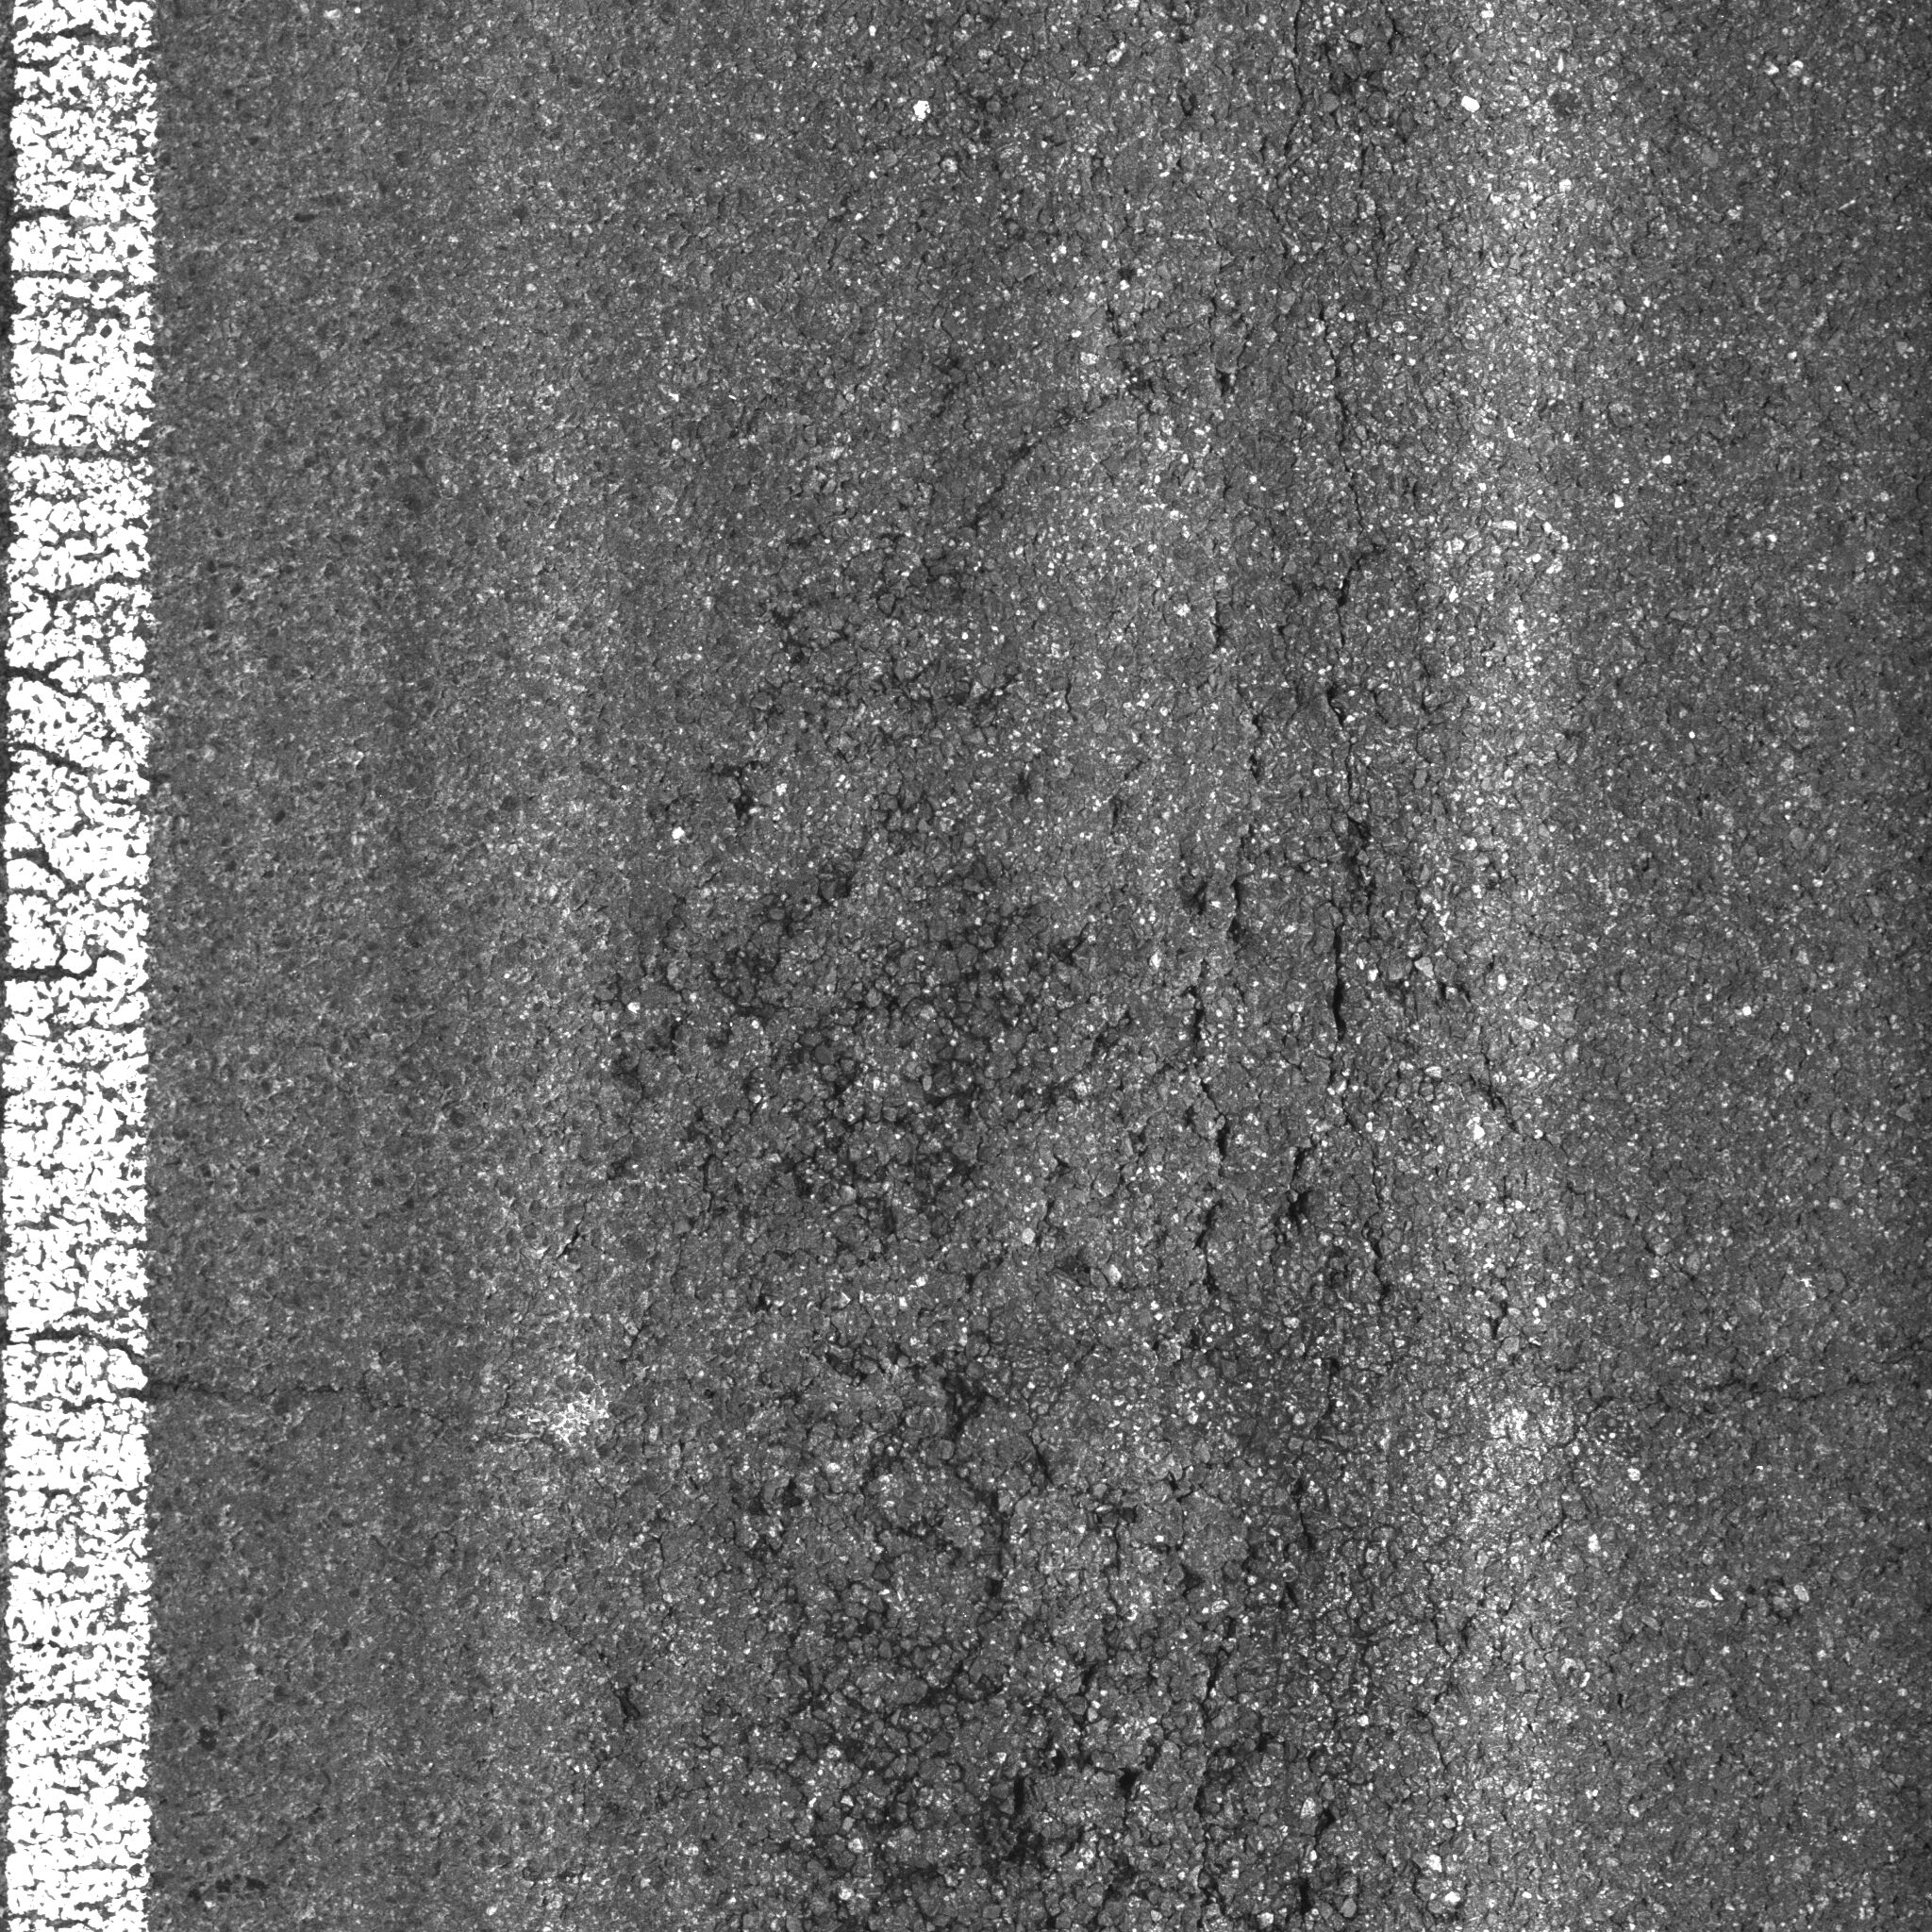alligator: (587, 73, 1514, 1930)
